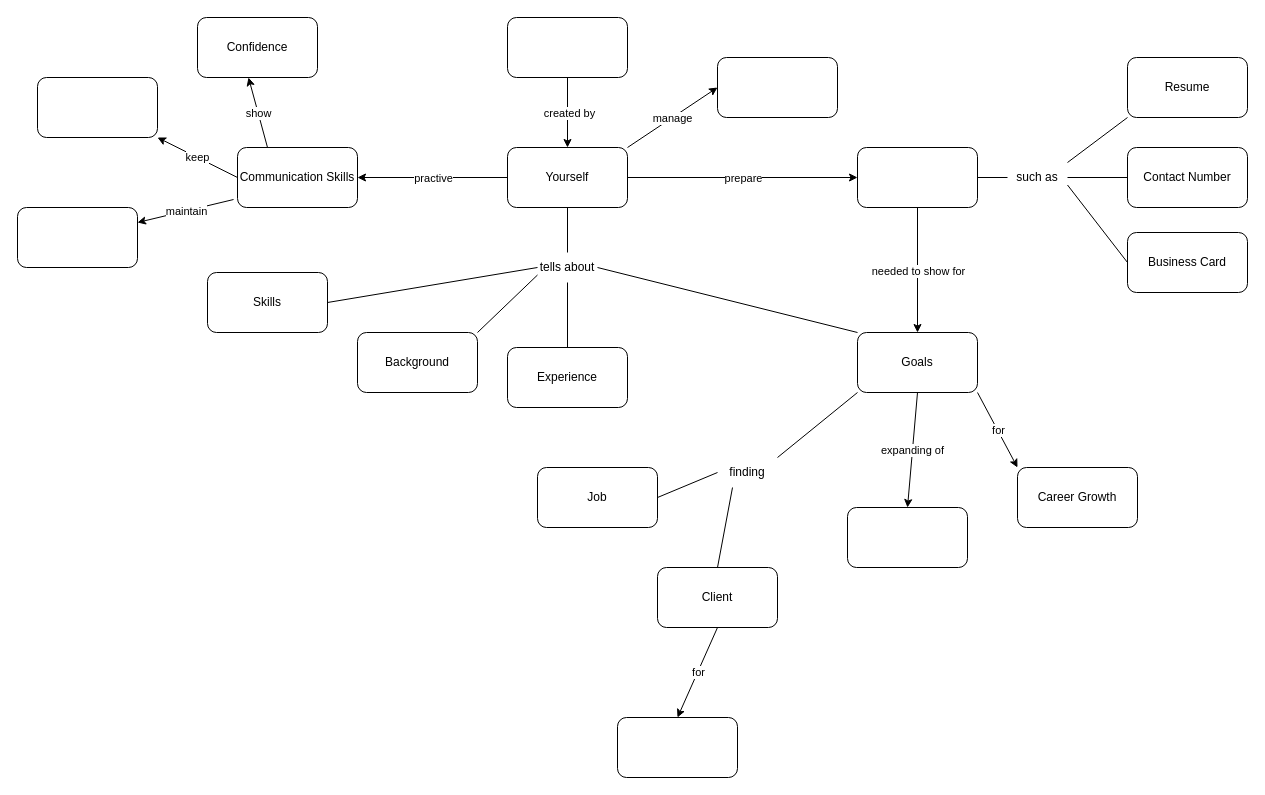
This 1265x795 diagram has some shape labels left out. Here are the shapes that lost their labels. From the top down, the centre of each, then its label:
At [567,47]: "Elevator Pitch".
At [97,107]: "High Energy".
At [777,87]: "Time".
At [917,177]: "Contact Infos".
At [77,237]: "Eye Contact".
At [907,537]: "Network".
At [677,747]: "Business".
